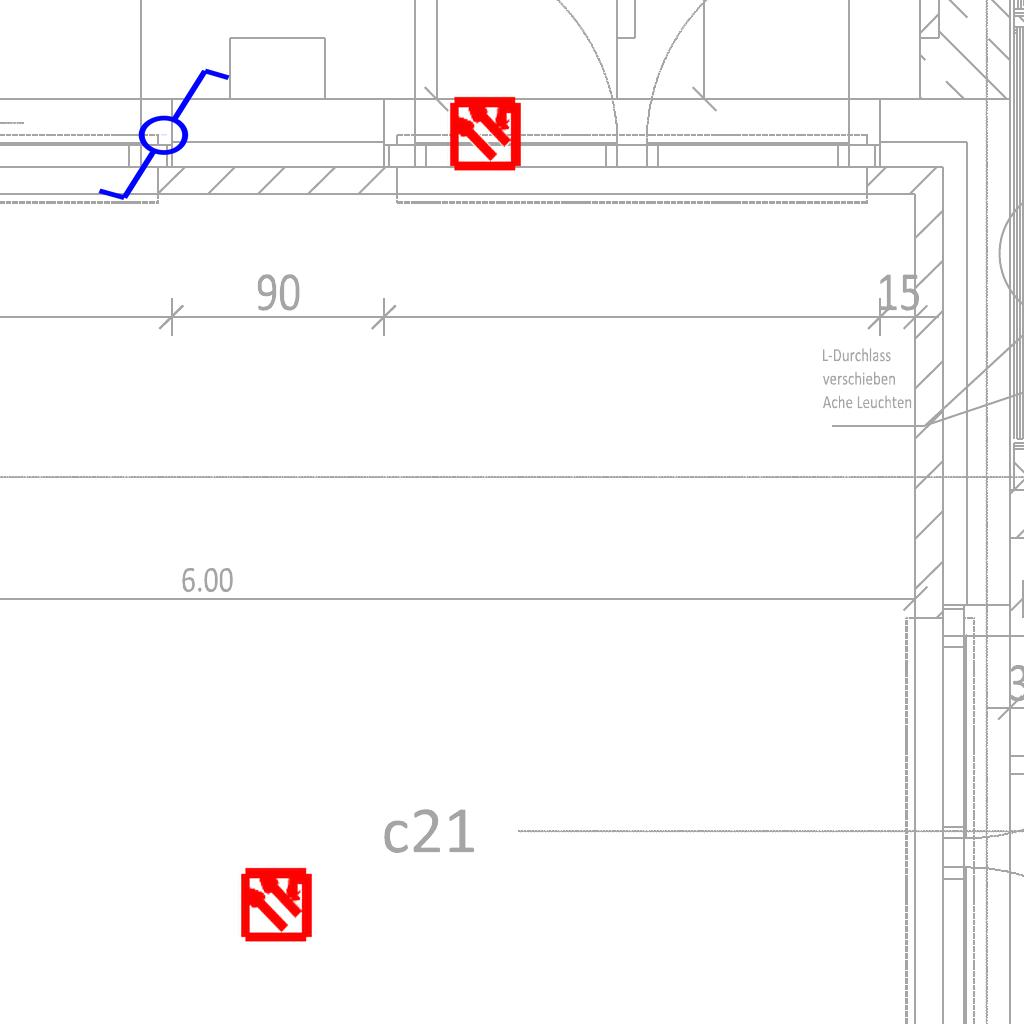OT_Multisensormelder_(Kombination_RMO_WMD): (429, 75, 542, 188), (220, 846, 333, 959)
Wechselschalter: (77, 61, 234, 205)
